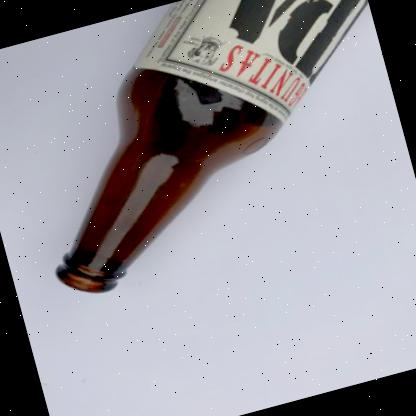Glass: (54, 0, 367, 292)
